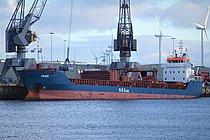Ship: (17, 33, 208, 103)
